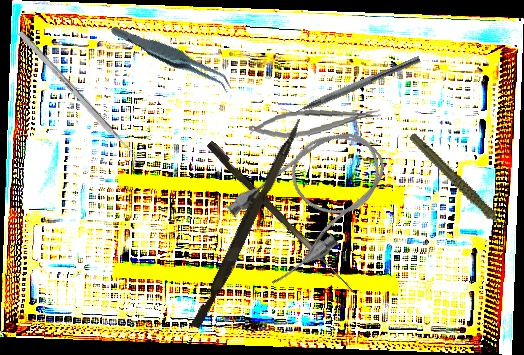Cannula: (216, 109, 408, 293)
Chopper: (278, 46, 422, 123)
Handpiece: (407, 117, 510, 254)
Hook Surgical: (204, 140, 362, 294)
Needle Holder: (248, 103, 382, 142)
Pusher: (190, 114, 304, 332), (17, 30, 147, 169)
Tissue Forceps: (109, 2, 235, 113)
